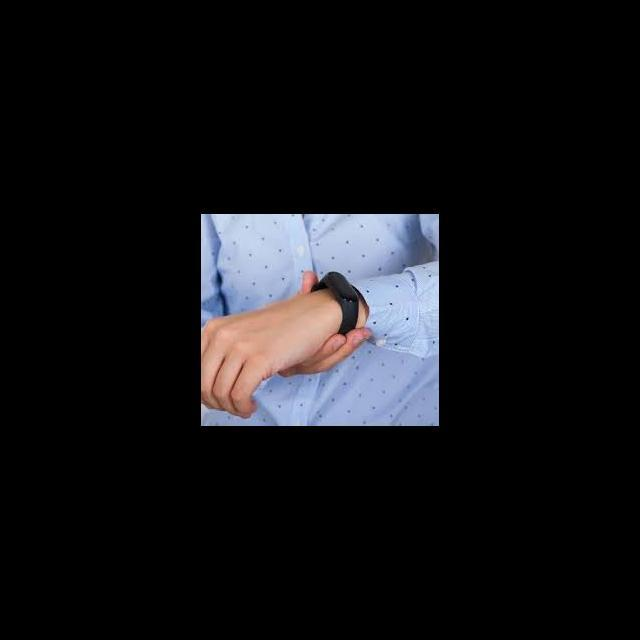watch: (312, 245, 372, 355)
